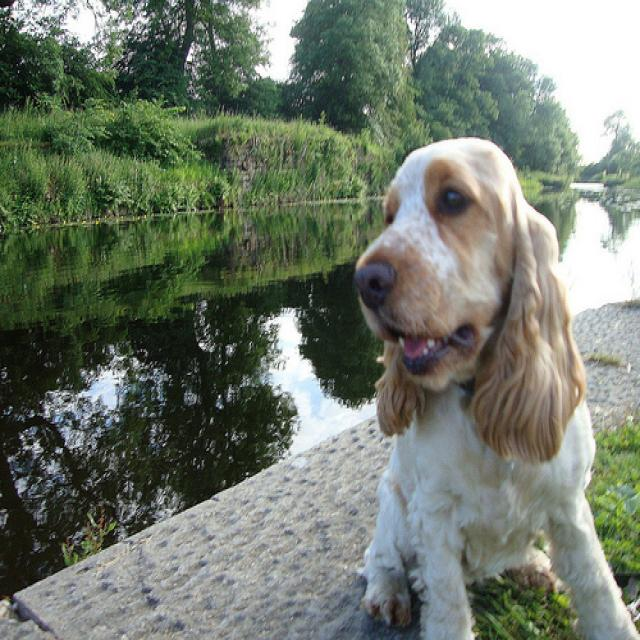dog-english_cocker_spaniel: (346, 126, 637, 637)
